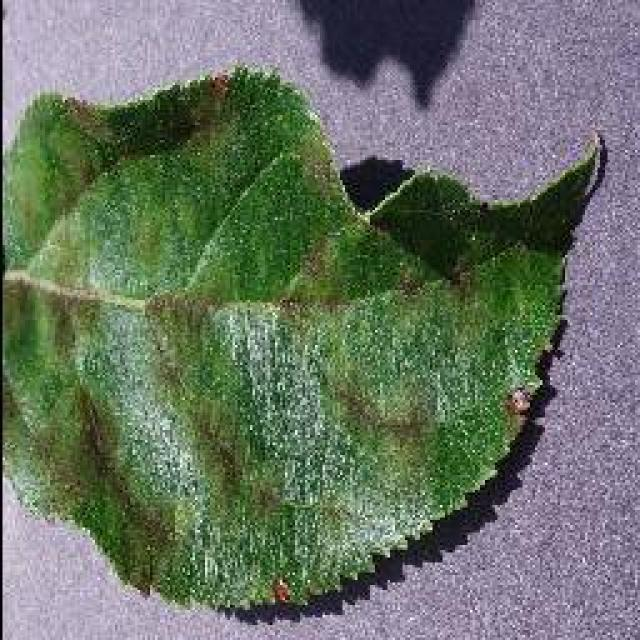apple scab disease: (0, 63, 608, 615)
